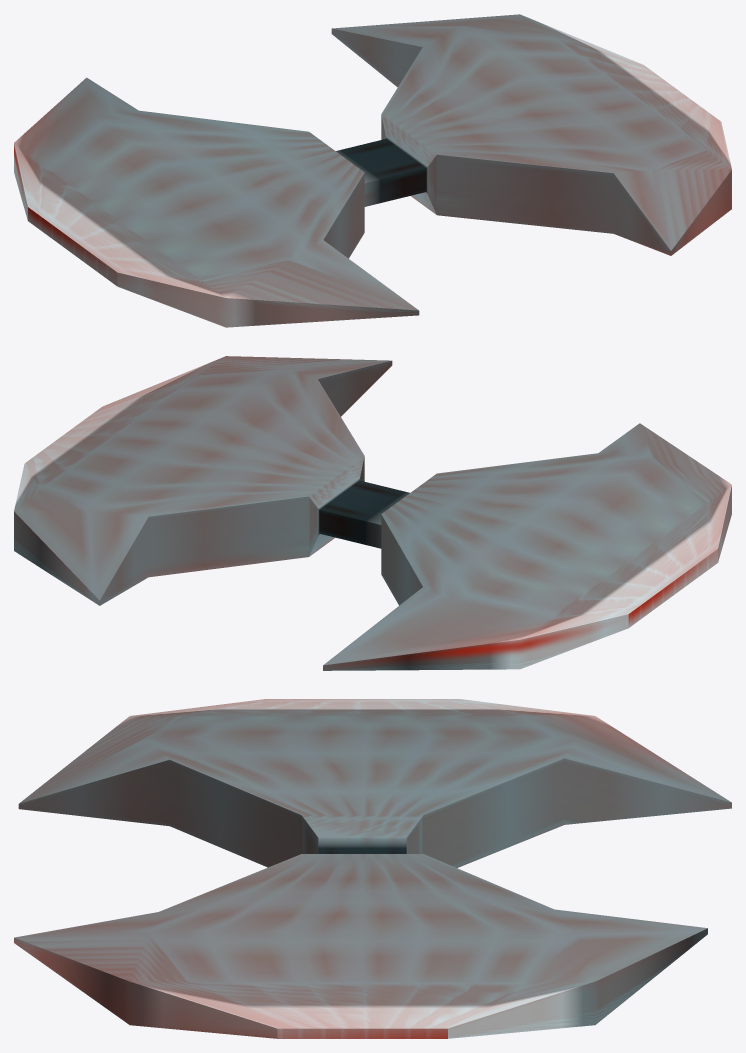
File: axe.fbx
The picture shows the model from 3 angles, top to bottom: view 1: azimuth 30°, elevation 25°; view 2: azimuth 150°, elevation 25°; view 3: azimuth 270°, elevation 25°; orthographic projection. The views are drawn at different scales.
Visible parts, largest first — view 1: pCube1; view 2: pCube1; view 3: pCube1.
Part boxes in pixels (x1=…): pCube1: x1=14, y1=14, x2=731, y2=327; pCube1: x1=14, y1=356, x2=731, y2=670; pCube1: x1=14, y1=699, x2=731, y2=1038.
Bounding box in the file's own units: 4.82 × 0.48 × 4.47.
1 material, 1 textured.
